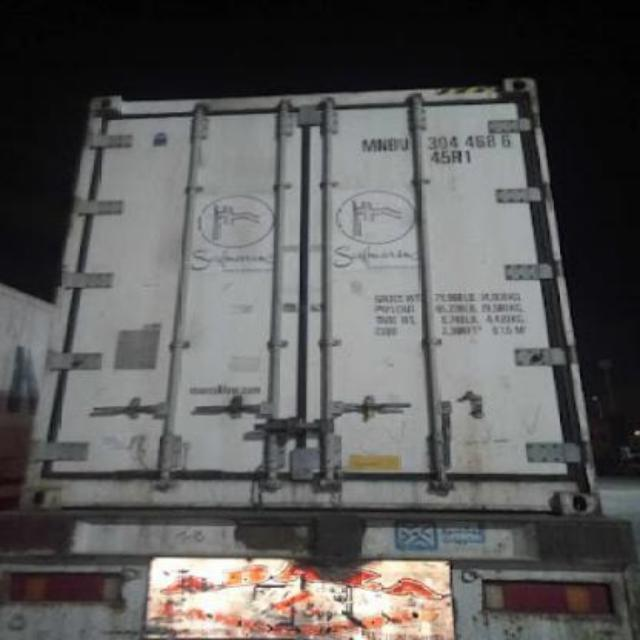0: (438, 132, 448, 146)
3: (424, 134, 440, 150)
4: (462, 130, 476, 154), (446, 127, 459, 151)
6: (502, 130, 514, 154), (474, 132, 486, 150)
8: (484, 124, 498, 154)
B: (386, 134, 399, 158)
M: (360, 134, 376, 156)
N: (374, 134, 388, 156)
U: (396, 133, 409, 151)
